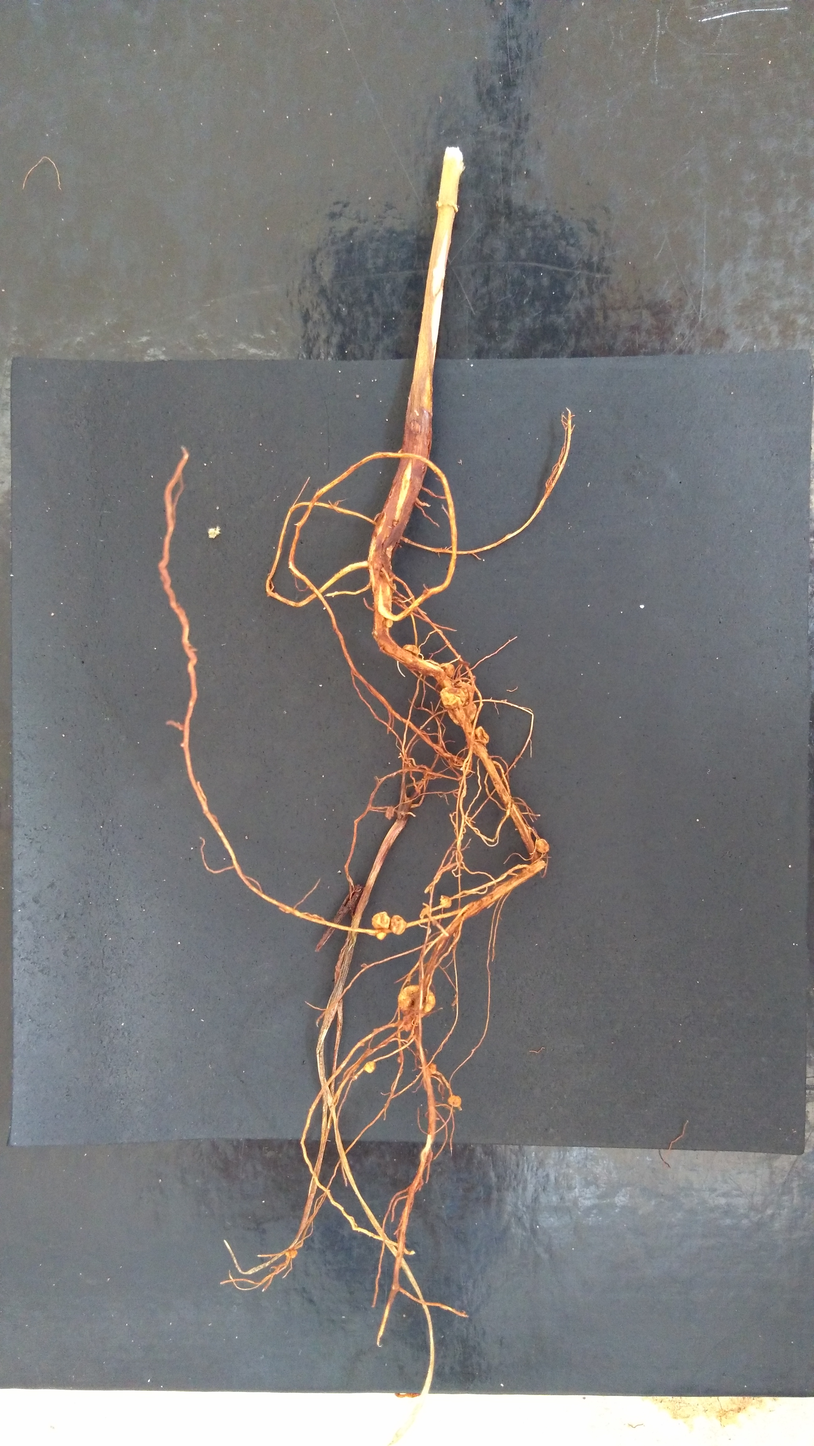nodule: (396, 983, 438, 1016), (445, 701, 477, 726), (438, 685, 466, 711), (390, 912, 409, 937), (456, 681, 475, 704), (370, 910, 390, 931), (474, 725, 490, 745), (534, 837, 551, 854), (401, 643, 421, 656), (441, 662, 455, 679), (362, 1060, 379, 1074), (446, 1094, 462, 1108), (440, 893, 453, 909), (424, 1061, 437, 1075), (284, 1249, 298, 1258), (375, 931, 387, 941), (384, 618, 394, 629)
